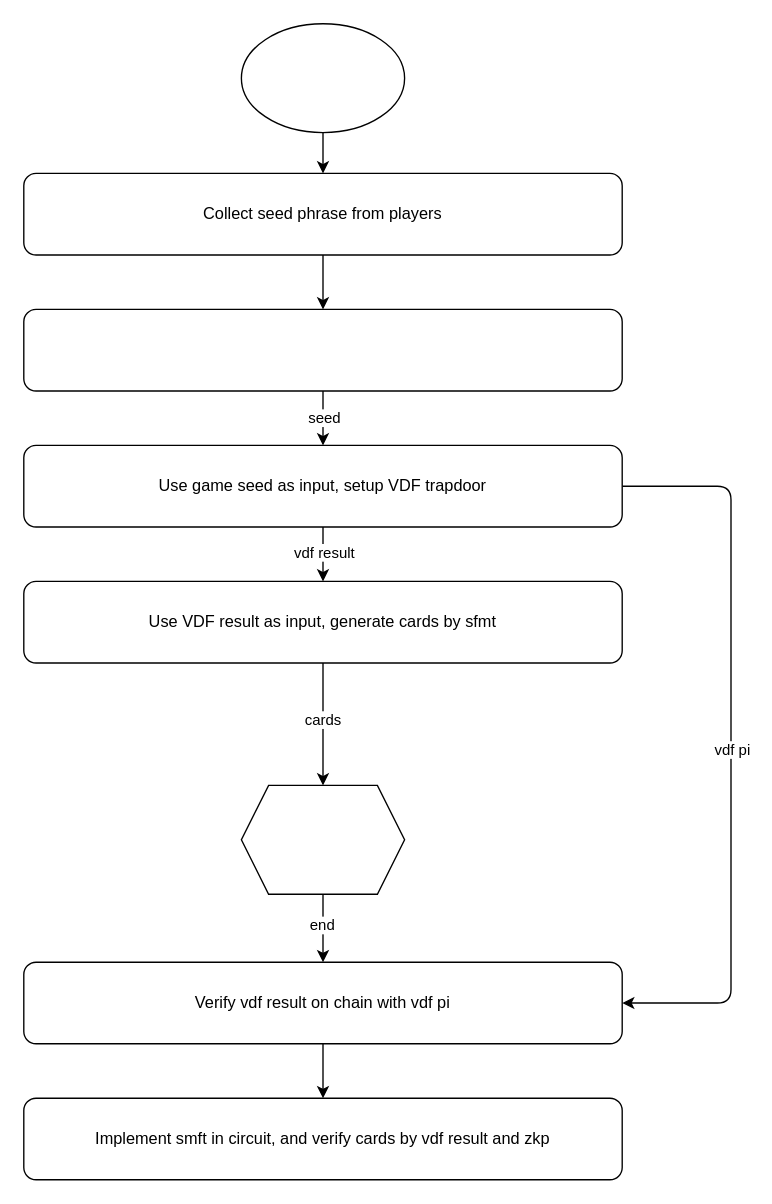
The diagram is 772 pixels wide and 1204 high, and some of its shapes have lost their labels. Here are the shapes that lost their labels. From the top down, the centre of each, then its label:
the point at 322,77: Game Start
the point at 322,349: Generate game seed
the point at 322,839: Gaming
